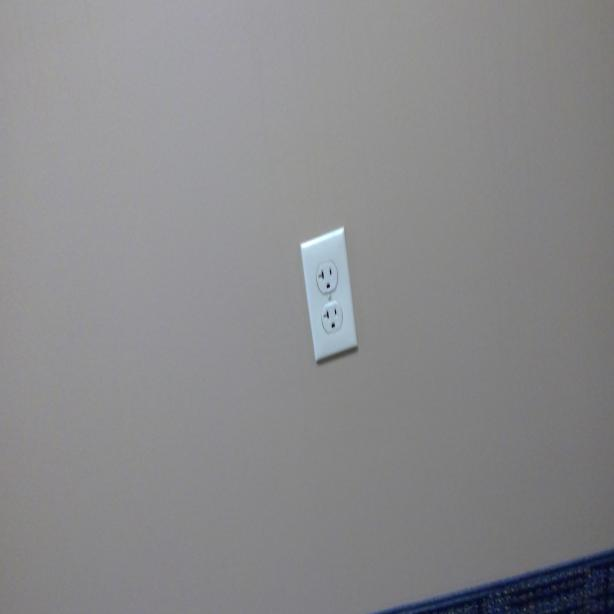typeb: (322, 304, 341, 335), (316, 264, 336, 291)
